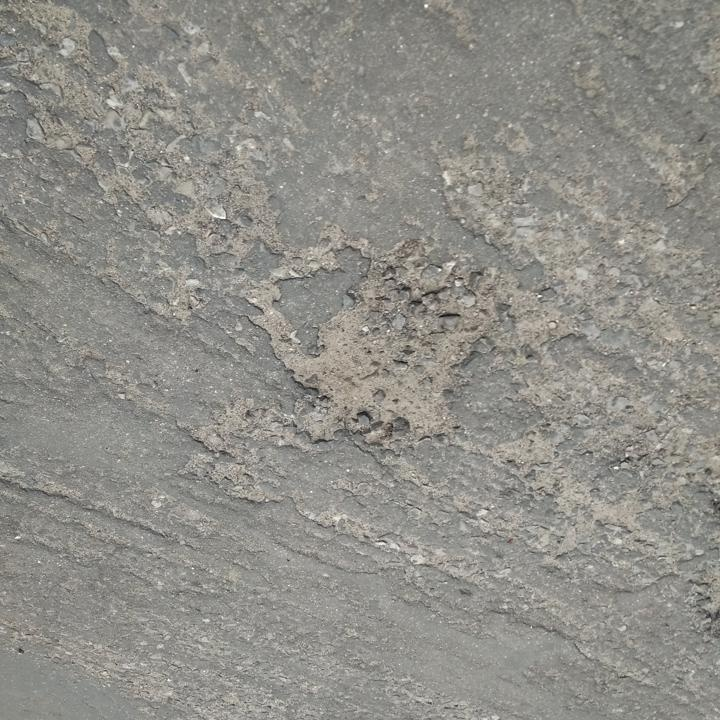pothole: (271, 251, 496, 456)
